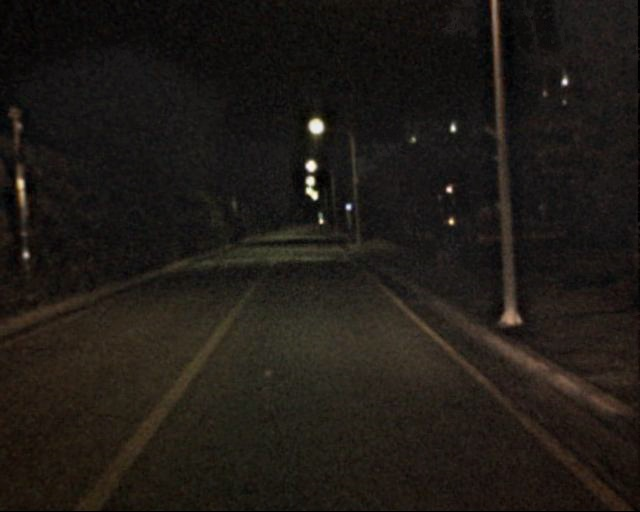person: (443, 216, 465, 269), (430, 218, 451, 268)
